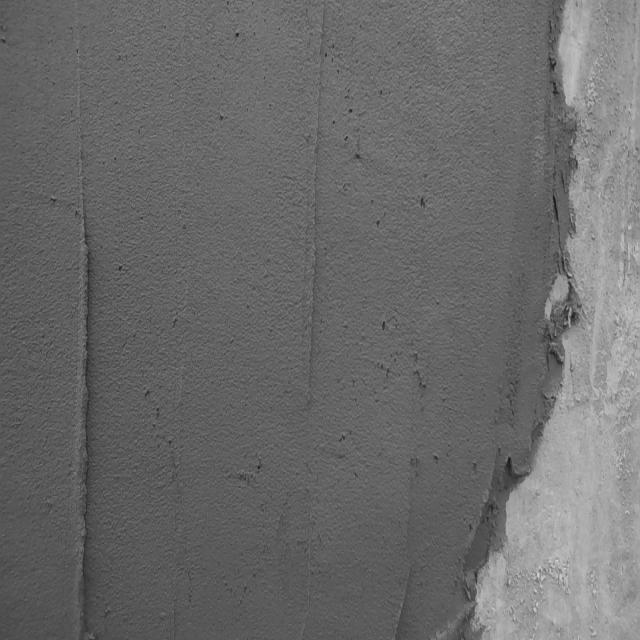trowels marks: (69, 44, 96, 640), (302, 12, 325, 440), (390, 523, 414, 640)
